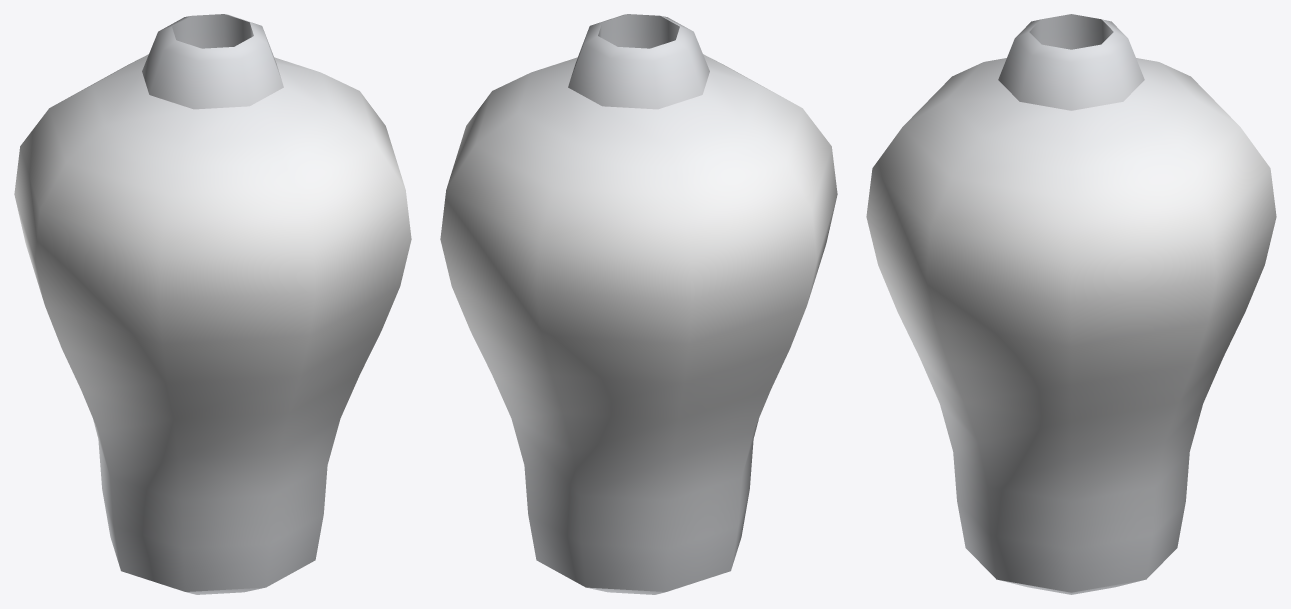
File: Vase_Curved.fbx
3 renders of one model, left to right at view 1: azimuth 30°, elevation 25°; view 2: azimuth 150°, elevation 25°; view 3: azimuth 270°, elevation 25°, orthographic.
Parts seen in each view (by area): view 1: Vase_Curved; view 2: Vase_Curved; view 3: Vase_Curved.
Boxes of the visible parts, x1,y1,x2,y2 form: Vase_Curved: (14,14,411,594); Vase_Curved: (440,14,837,594); Vase_Curved: (866,14,1276,594).
Bounding box in the file's own units: 19.61 × 28.57 × 19.61.
